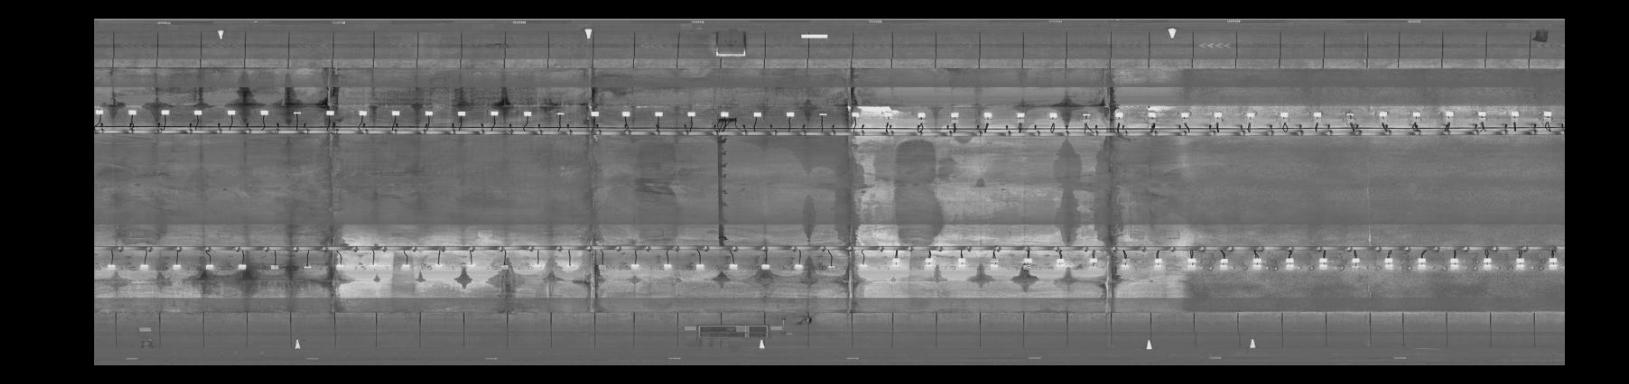light: (1278, 254, 1298, 274), (1312, 256, 1332, 273), (1081, 256, 1107, 269), (1348, 255, 1369, 271), (1247, 255, 1265, 272), (1273, 106, 1293, 120), (101, 260, 121, 275), (264, 260, 284, 275), (592, 260, 612, 275), (1216, 257, 1233, 273), (878, 108, 898, 121), (1379, 256, 1398, 270), (169, 259, 186, 275), (495, 260, 515, 273), (1014, 108, 1031, 124), (1146, 257, 1167, 270), (452, 107, 470, 121), (690, 260, 707, 275), (987, 256, 1005, 271), (1117, 258, 1134, 273), (1183, 257, 1201, 272), (1176, 109, 1195, 122), (234, 263, 253, 275), (528, 260, 548, 273), (1510, 257, 1529, 270), (1412, 256, 1432, 269), (888, 257, 906, 271), (1109, 108, 1126, 121), (1471, 108, 1492, 119), (201, 260, 219, 273), (561, 260, 580, 273), (790, 260, 808, 273), (1241, 109, 1260, 121), (1439, 109, 1458, 121), (1544, 257, 1563, 270), (389, 106, 404, 120), (1145, 108, 1159, 124), (1050, 257, 1070, 269), (1338, 108, 1358, 119), (1537, 108, 1556, 119), (399, 259, 416, 273), (913, 108, 930, 121), (658, 260, 675, 273), (946, 109, 964, 121), (955, 255, 969, 270), (224, 106, 240, 119), (300, 259, 316, 273), (981, 110, 996, 124), (1046, 108, 1062, 121), (1021, 256, 1037, 270), (355, 107, 372, 119), (1445, 257, 1462, 270), (288, 107, 305, 118), (724, 262, 742, 273), (1408, 109, 1425, 120), (1310, 108, 1325, 121), (627, 260, 643, 273), (585, 108, 602, 119), (750, 108, 767, 119), (1210, 108, 1227, 119), (1478, 256, 1498, 266), (485, 108, 503, 118), (520, 108, 538, 118), (323, 106, 338, 118), (136, 260, 151, 273), (758, 262, 773, 274), (421, 108, 436, 119), (124, 107, 140, 117), (256, 107, 272, 117), (159, 107, 172, 119), (1079, 109, 1093, 121), (618, 108, 633, 119), (922, 256, 936, 268), (1376, 108, 1390, 119), (1508, 108, 1523, 119), (682, 108, 699, 117), (849, 110, 865, 119), (333, 260, 348, 271), (651, 108, 666, 118), (463, 258, 478, 269), (429, 260, 447, 269), (365, 260, 380, 270), (824, 263, 839, 272), (781, 110, 797, 119), (95, 107, 108, 117), (190, 107, 204, 117), (857, 262, 872, 271), (814, 110, 829, 119), (716, 109, 731, 117), (553, 109, 567, 117)
